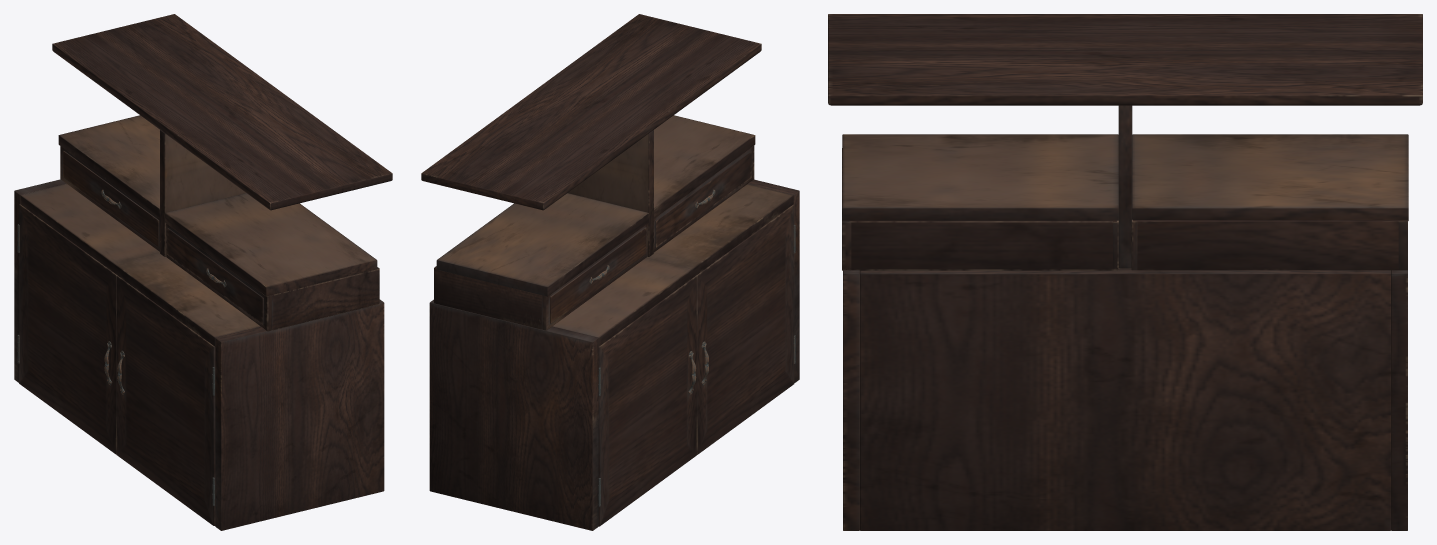
File: SM_Drawer01A.fbx
The picture shows the model from 3 angles, left to right: view 1: azimuth 30°, elevation 25°; view 2: azimuth 150°, elevation 25°; view 3: azimuth 270°, elevation 25°; orthographic projection. The views are drawn at different scales.
Parts seen in each view (by area): view 1: SM_Drawer01A; view 2: SM_Drawer01A; view 3: SM_Drawer01A.
Part boxes in pixels (x1,y1,x2,y2): SM_Drawer01A: [14, 14, 392, 530]; SM_Drawer01A: [421, 14, 799, 530]; SM_Drawer01A: [828, 14, 1422, 530].
Bounding box in the file's own units: 40.21 × 88.2 × 71.64.
Materials: 1 (1 with a texture image).
